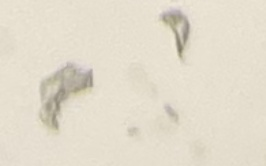microplastic: (38, 64, 93, 131), (160, 8, 192, 64)
